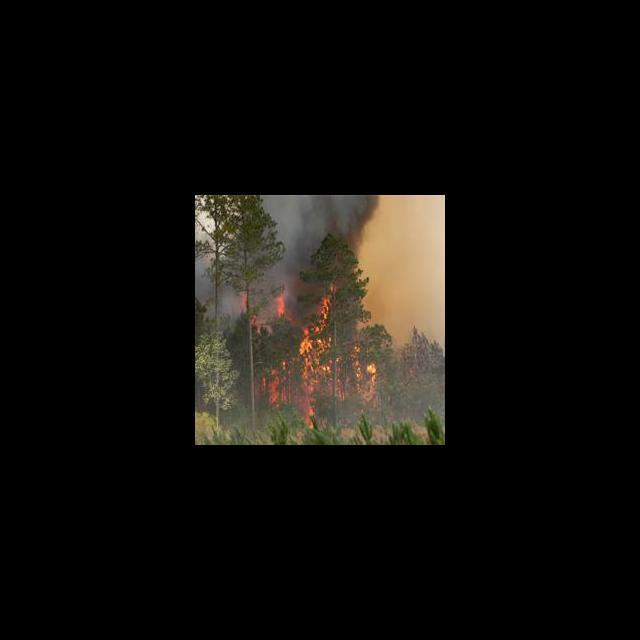Fire: (298, 284, 379, 426), (257, 359, 295, 406)
